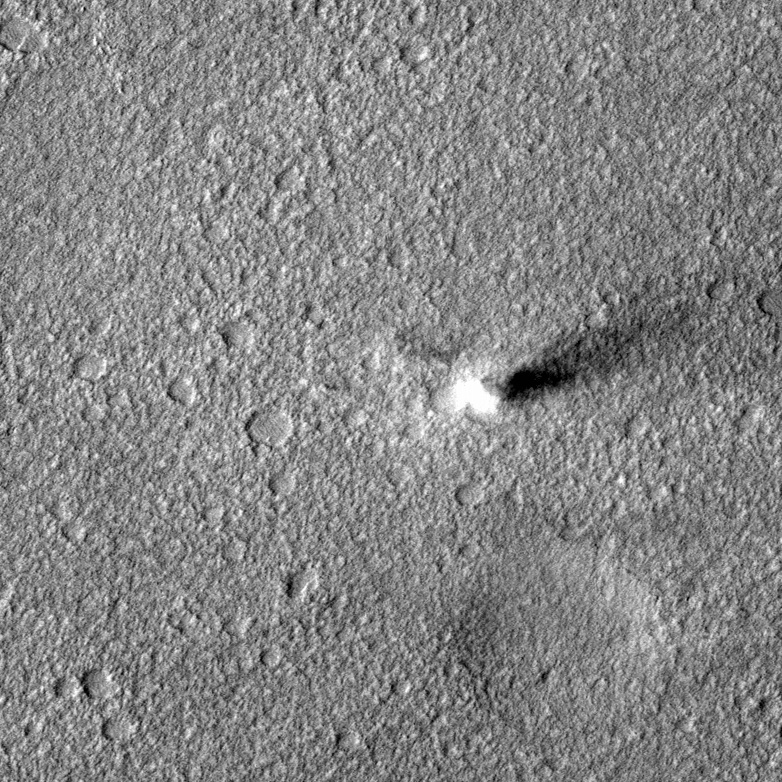dust_devil: (447, 317, 646, 418)
